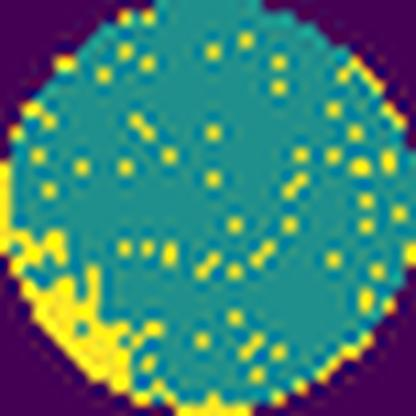Edge-Loc: (0, 151, 257, 416)
